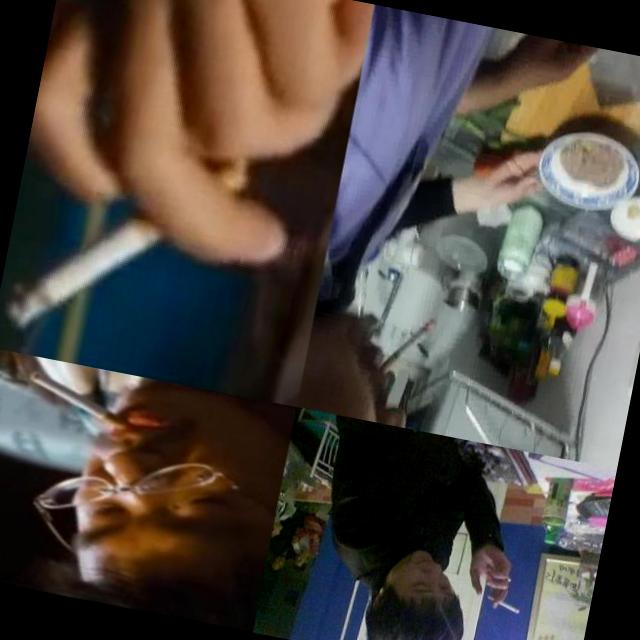cigarette: (2, 124, 251, 368), (21, 370, 137, 433), (379, 312, 436, 384), (485, 594, 522, 614)
